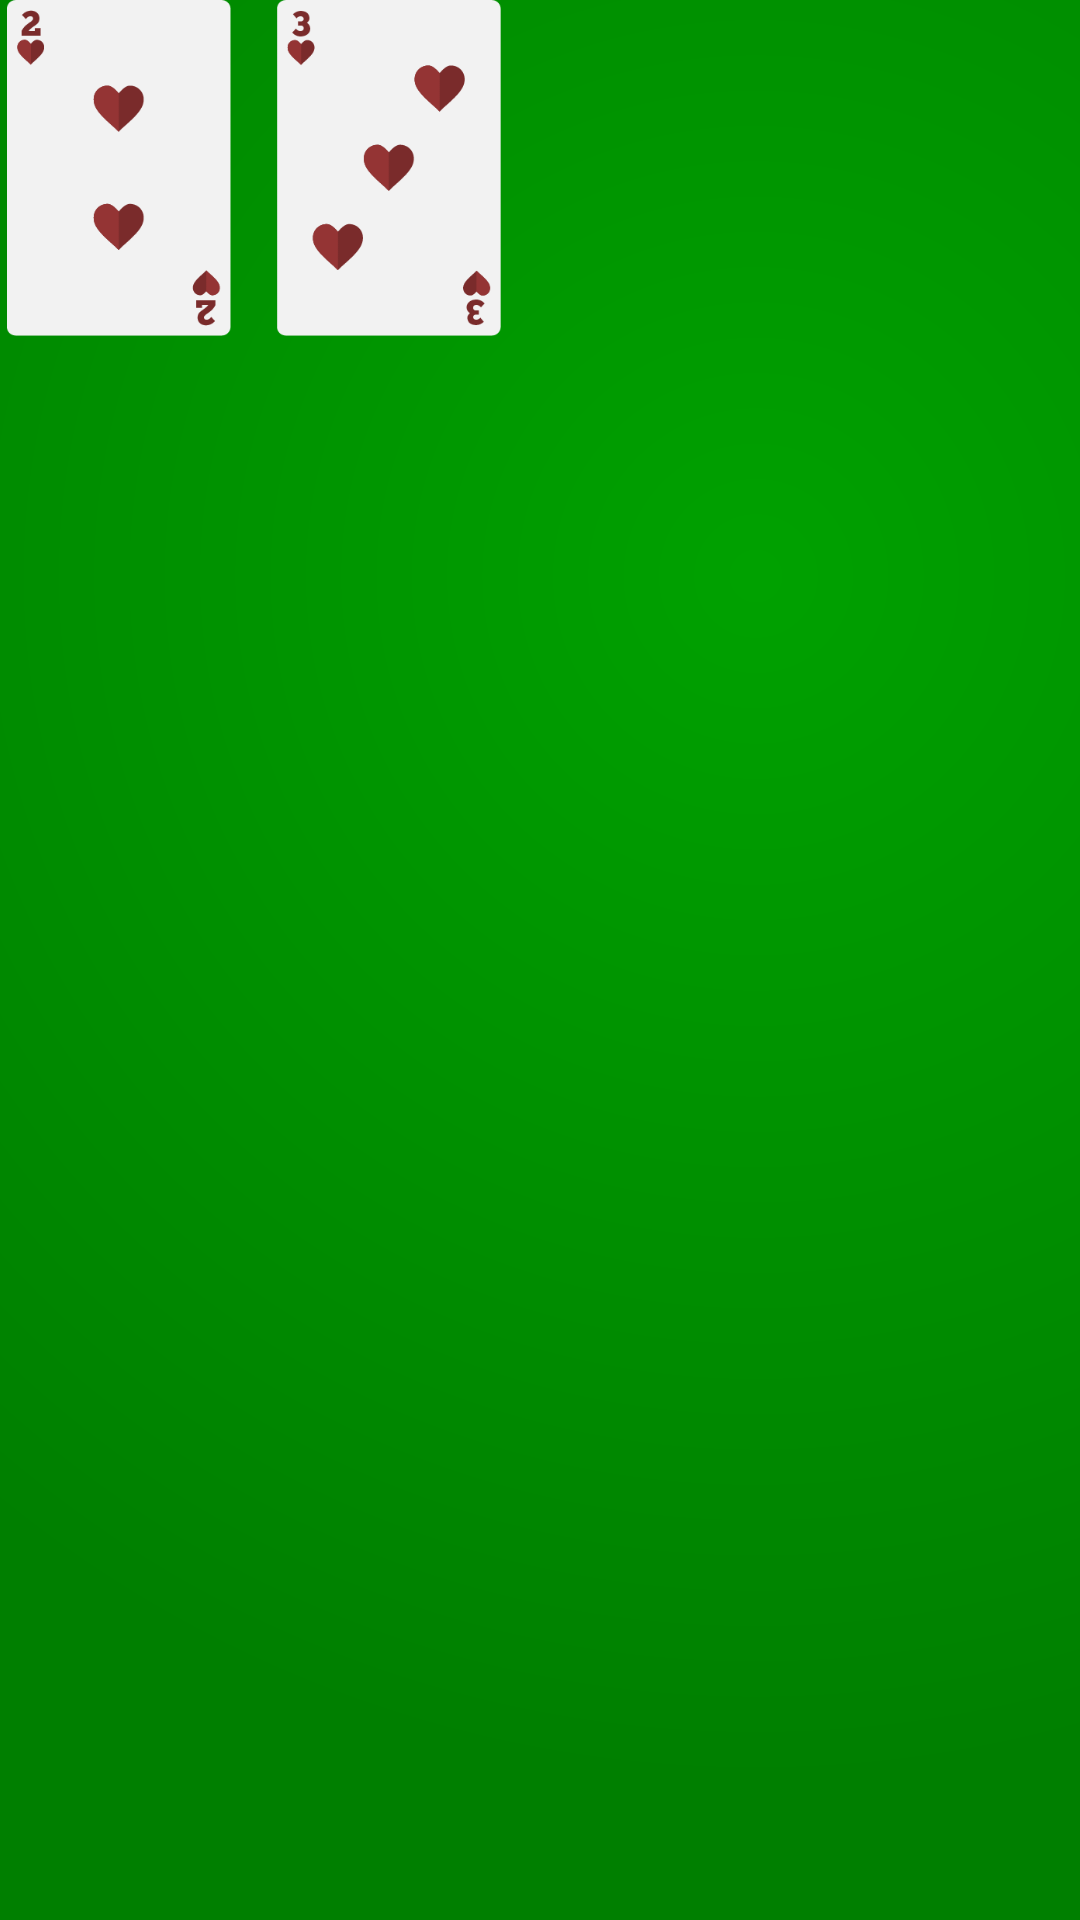

Named icons in this screenshot (1080 × 1920) and their bounding boxes, (x1, y1, x2, y2):
hearts: (7, 0, 231, 336), (277, 0, 501, 336)
